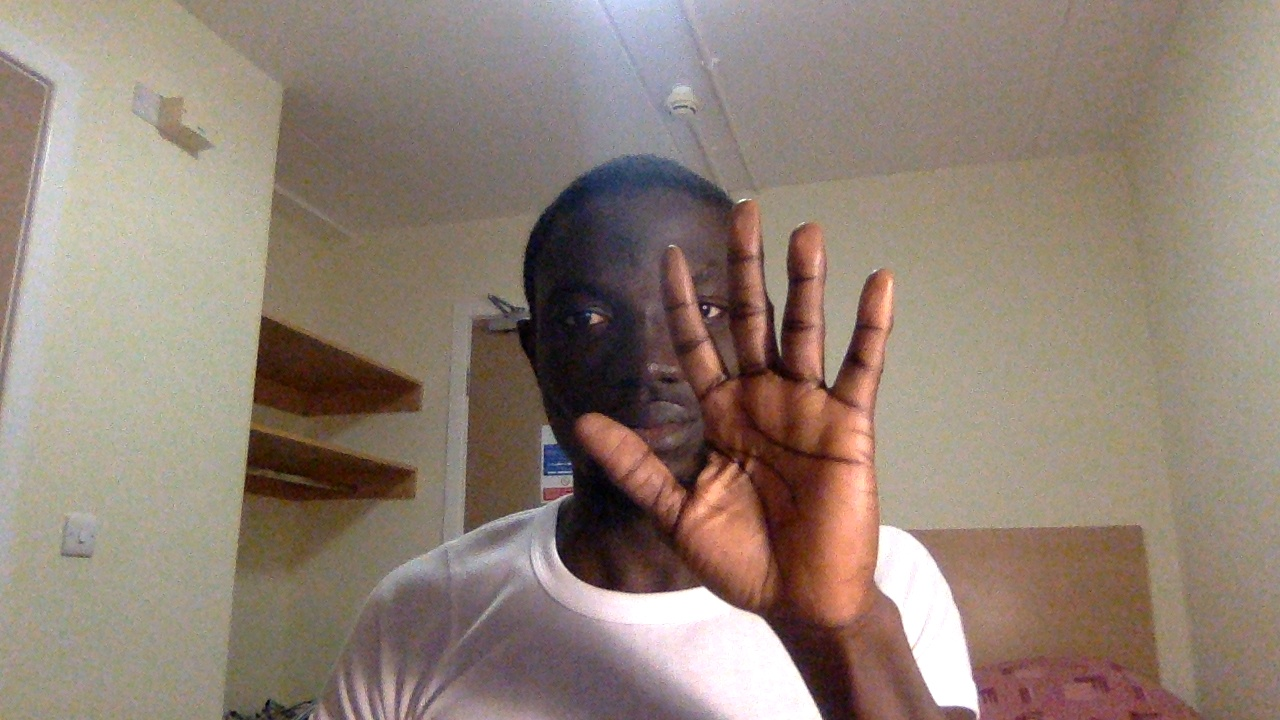Hello: (558, 188, 927, 660)
